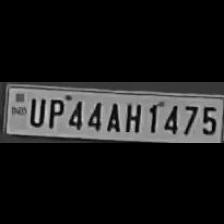1: (143, 100, 159, 132)
4: (83, 97, 103, 129), (160, 100, 178, 134), (65, 96, 83, 128)
5: (198, 101, 218, 135)
7: (180, 102, 196, 134)
A: (103, 97, 121, 130)
H: (122, 98, 142, 132)
P: (44, 94, 64, 128)
U: (26, 94, 44, 125)
